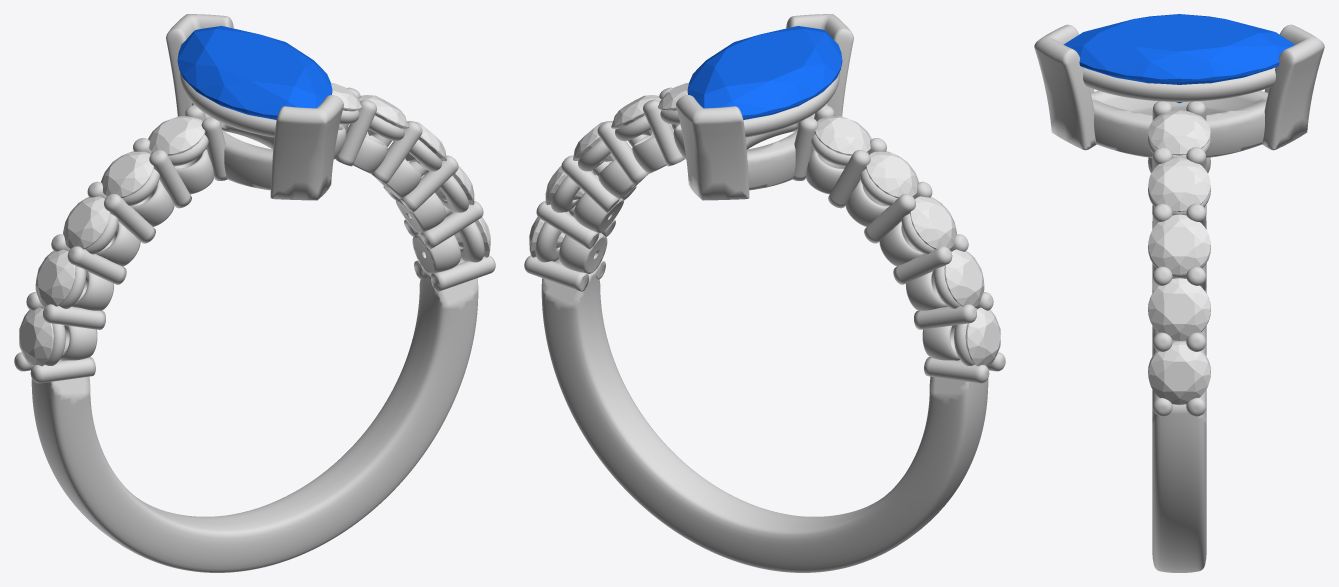
Rendered from bluesapphire-marquise-platinum-protectededges2prongs-straightband-11stone.glb.
3 views of the same model, side by side, from view 1: azimuth 30°, elevation 25°; view 2: azimuth 150°, elevation 25°; view 3: azimuth 270°, elevation 25° (orthographic). The views are drawn at different scales.
Visible parts, largest first — view 1: metal, stone, side.002, side.003, side.001, side.004, side, side.008; view 2: metal, stone, side.002, side.003, side.001, side.004, side, side.008; view 3: metal, stone, side.006, side.005, side.007, side.008, side.009.
Boxes of the visible parts, left/top/right/bottom form: metal: left=14, top=14, right=495, bottom=572; stone: left=177, top=26, right=332, bottom=119; side.002: left=63, top=196, right=109, bottom=249; side.003: left=101, top=151, right=153, bottom=197; side.001: left=35, top=249, right=75, bottom=306; side.004: left=148, top=116, right=205, bottom=155; side: left=19, top=307, right=54, bottom=366; side.008: left=358, top=95, right=408, bottom=135; metal: left=524, top=14, right=1005, bottom=572; stone: left=687, top=26, right=842, bottom=119; side.002: left=910, top=196, right=956, bottom=249; side.003: left=866, top=151, right=918, bottom=197; side.001: left=944, top=249, right=984, bottom=306; side.004: left=814, top=116, right=871, bottom=155; side: left=965, top=307, right=1000, bottom=366; side.008: left=611, top=95, right=661, bottom=135; metal: left=1034, top=24, right=1324, bottom=572; stone: left=1063, top=14, right=1295, bottom=103; side.006: left=1148, top=278, right=1210, bottom=340; side.005: left=1148, top=343, right=1210, bottom=404; side.007: left=1148, top=214, right=1210, bottom=274; side.008: left=1148, top=157, right=1210, bottom=211; side.009: left=1148, top=110, right=1210, bottom=155.
Size of the model in its own units: 21.97 by 22.94 by 11.69.
